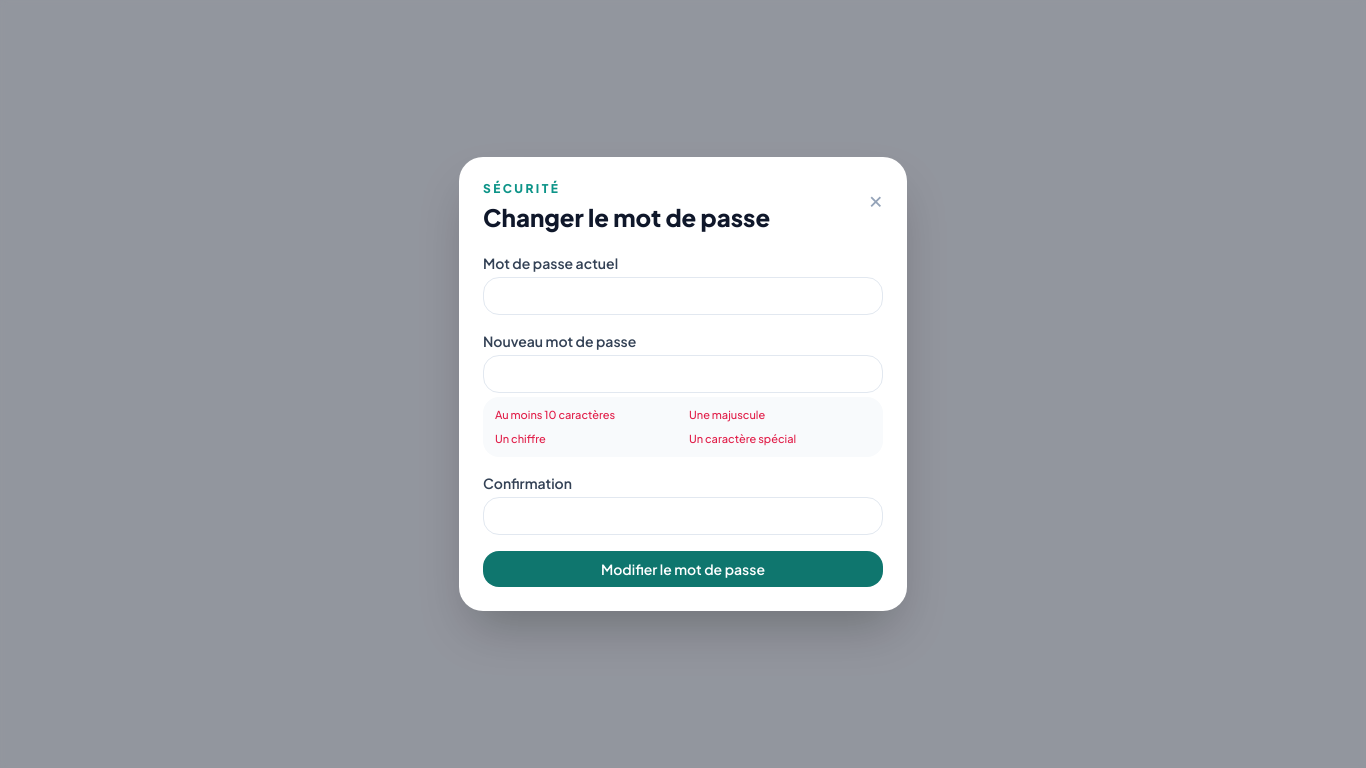
ChangePasswordModal — politique de mot de passe › change le mot de passe puis confirme
Expected: the text "Au moins 10 caractères" is shown, [495,408,615,421]
Type "Ancien-2025" into the password field labelled "Mot de passe actuel".
click(683, 296); type("Ancien-2025")  # box [483,277,883,315]
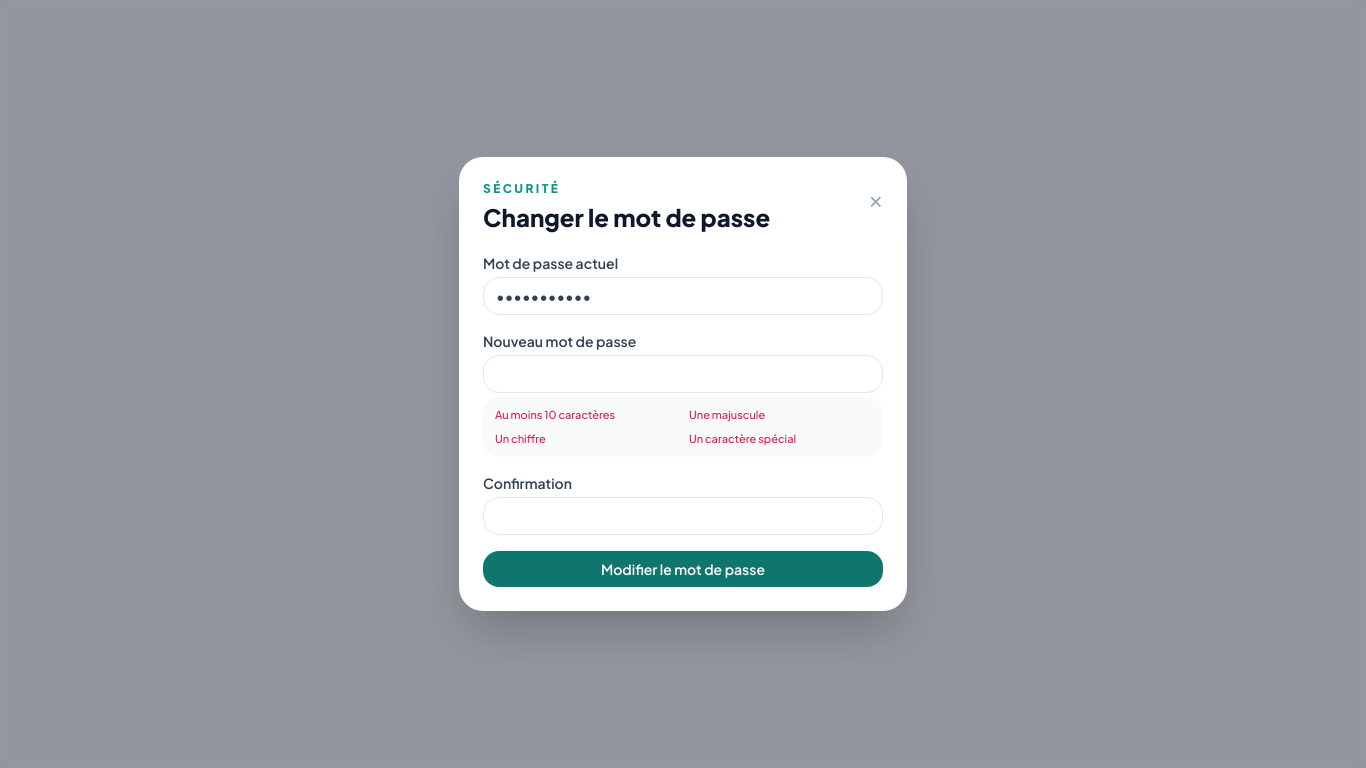
Type "Robuste-2026" into the 2nd password field.
click(683, 374); type("Robuste-2026")  # box [483,355,883,393]
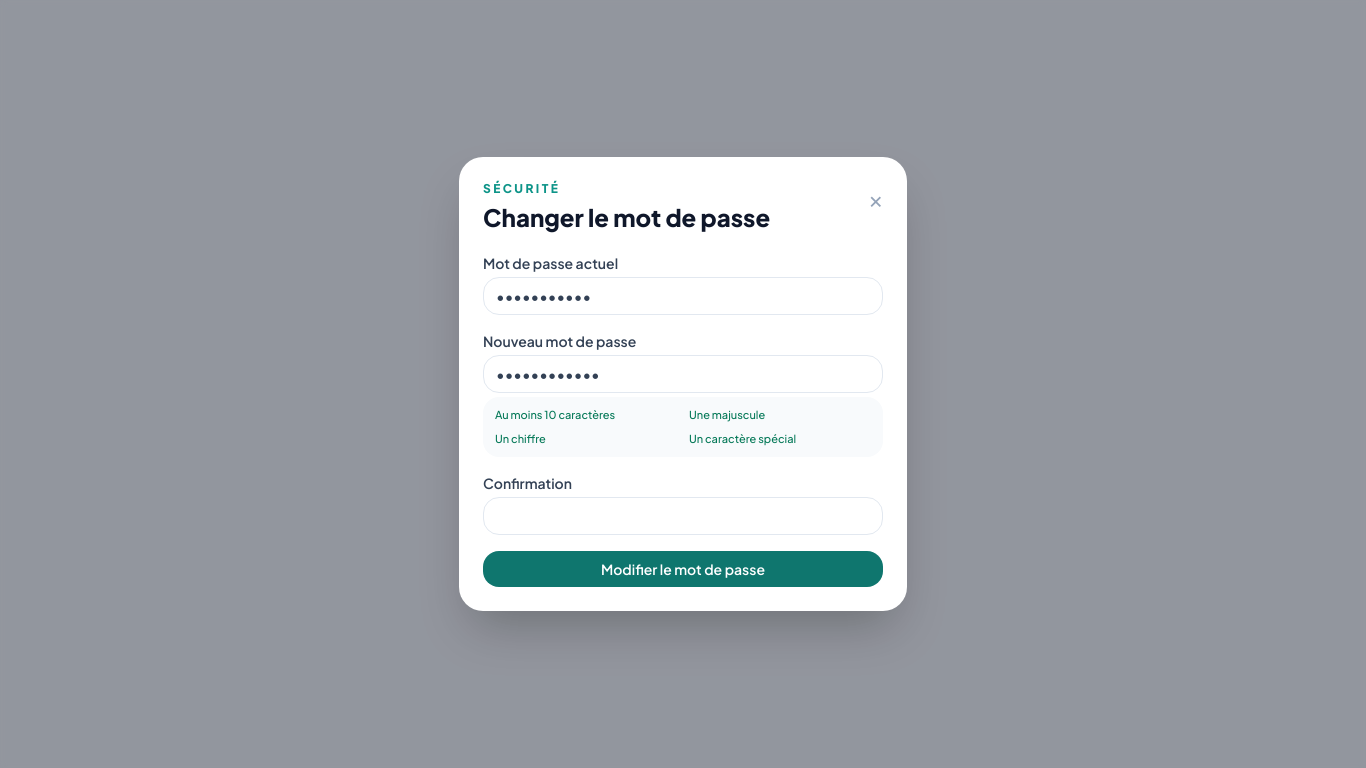
Type "Robuste-2026" into the password field labelled "Confirmation".
click(683, 516); type("Robuste-2026")  # box [483,497,883,535]
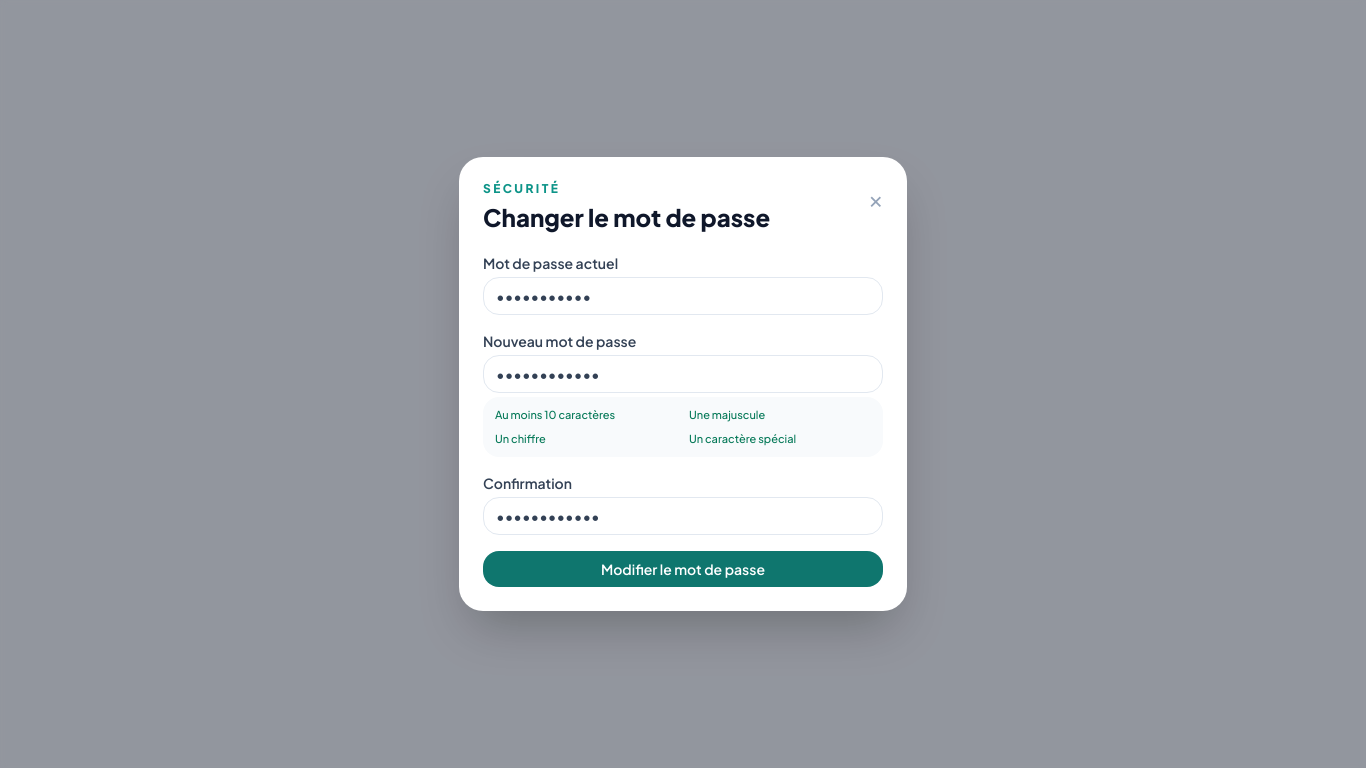
Submit the form, box [483,253,883,587]
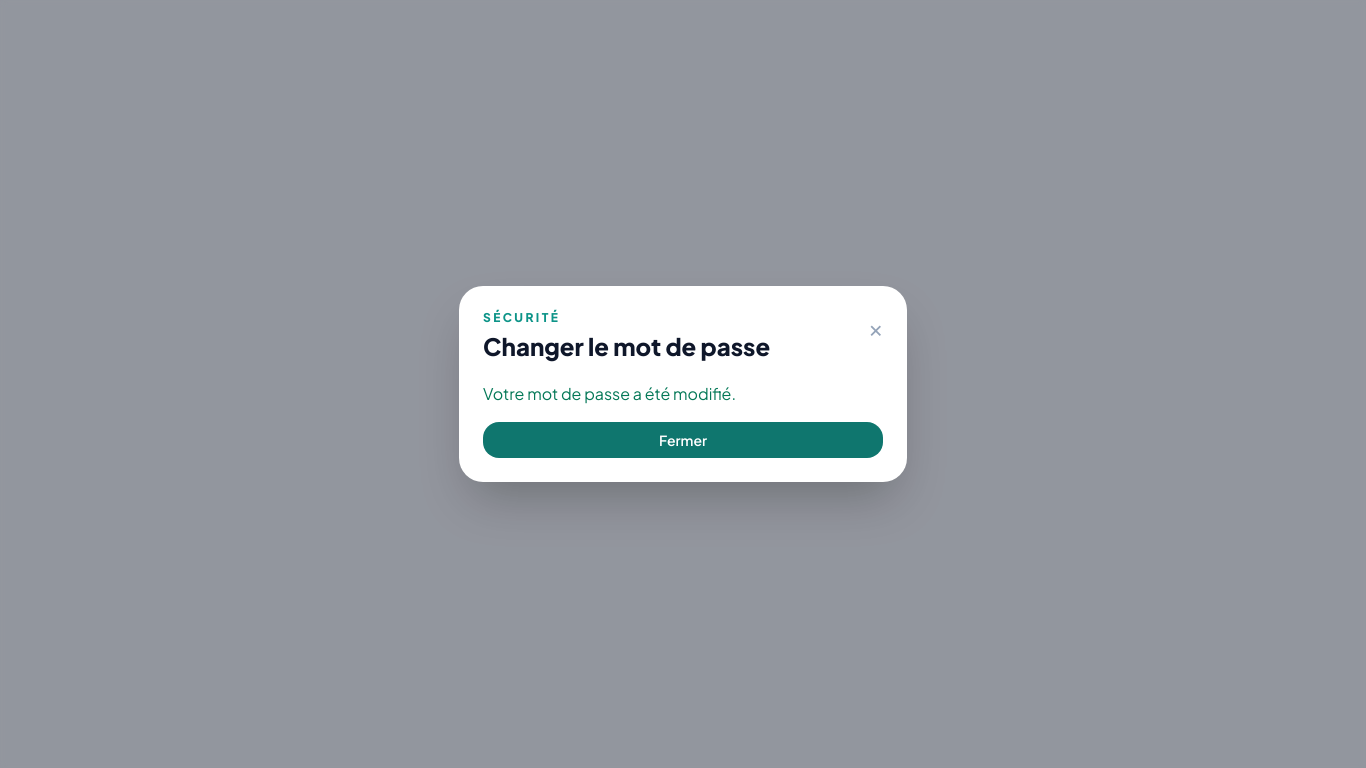
Now the text "Votre mot de passe a été modifié." is shown, box [483,383,736,404]
